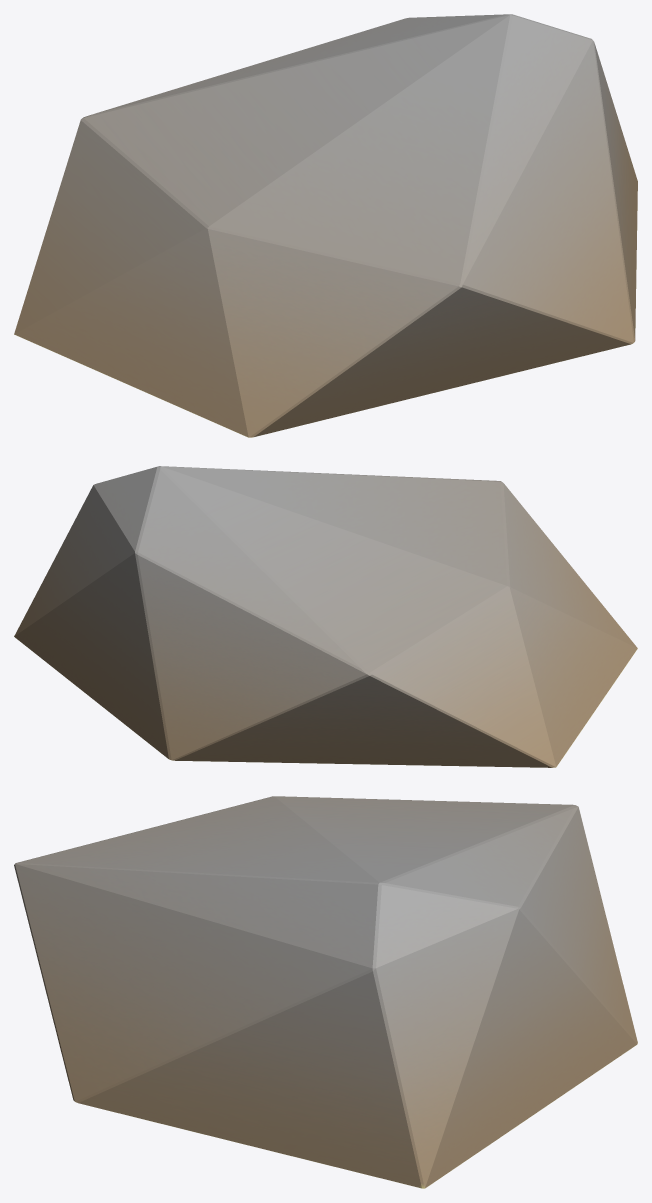
The model's file is Desert 1.fbx.
3 views of the same model, one above another, from view 1: azimuth 30°, elevation 25°; view 2: azimuth 150°, elevation 25°; view 3: azimuth 270°, elevation 25° (orthographic). The views are drawn at different scales.
Visible parts, largest first — view 1: Desert rock; view 2: Desert rock; view 3: Desert rock.
Boxes of the visible parts, bbox=[...] form: Desert rock: bbox=[14, 14, 637, 437]; Desert rock: bbox=[14, 466, 637, 767]; Desert rock: bbox=[14, 796, 637, 1188].
Bounding box in the file's own units: 6.96 × 2.31 × 5.7.
